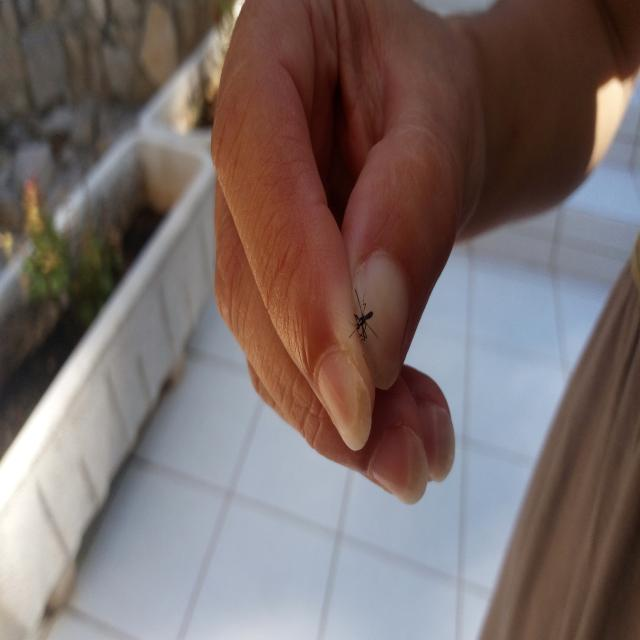albopictus: (346, 279, 380, 347)
